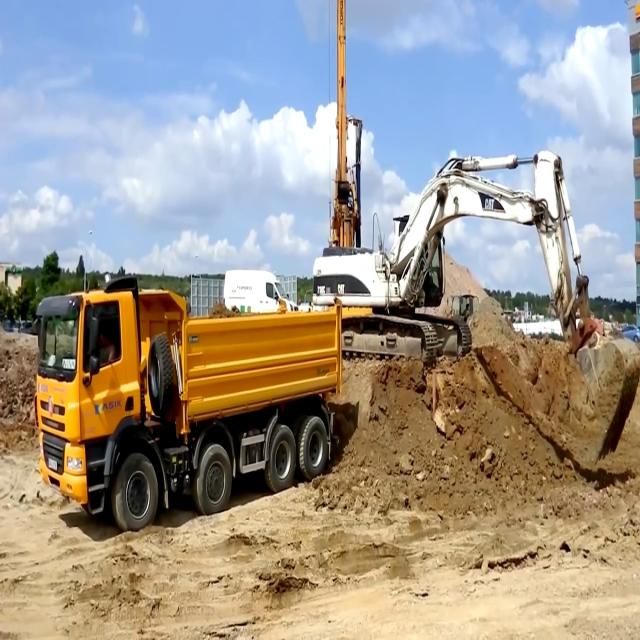excavator: (310, 151, 636, 510)
